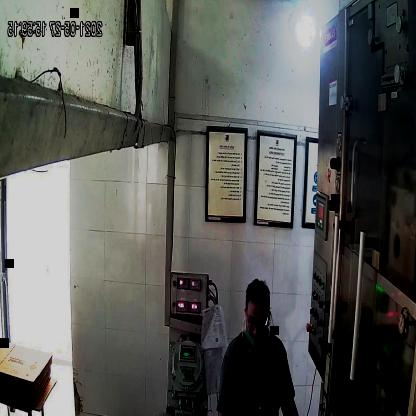goggles: (243, 309, 273, 334)
